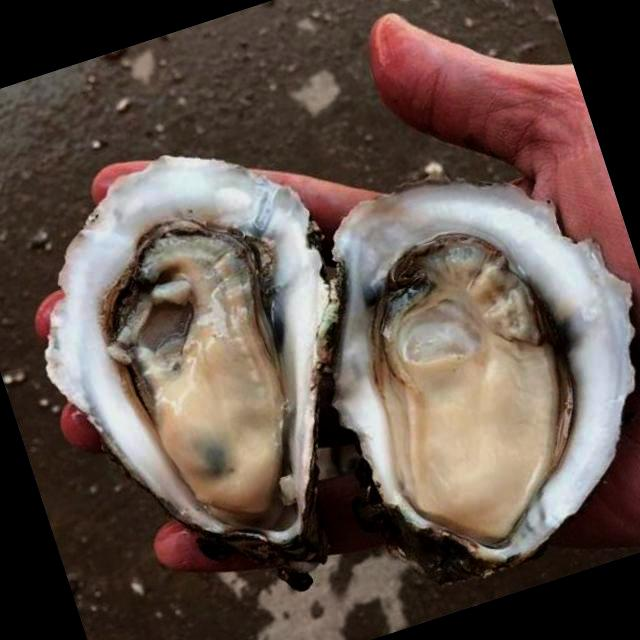Oyster-Open: (325, 172, 635, 580), (45, 156, 328, 562)
